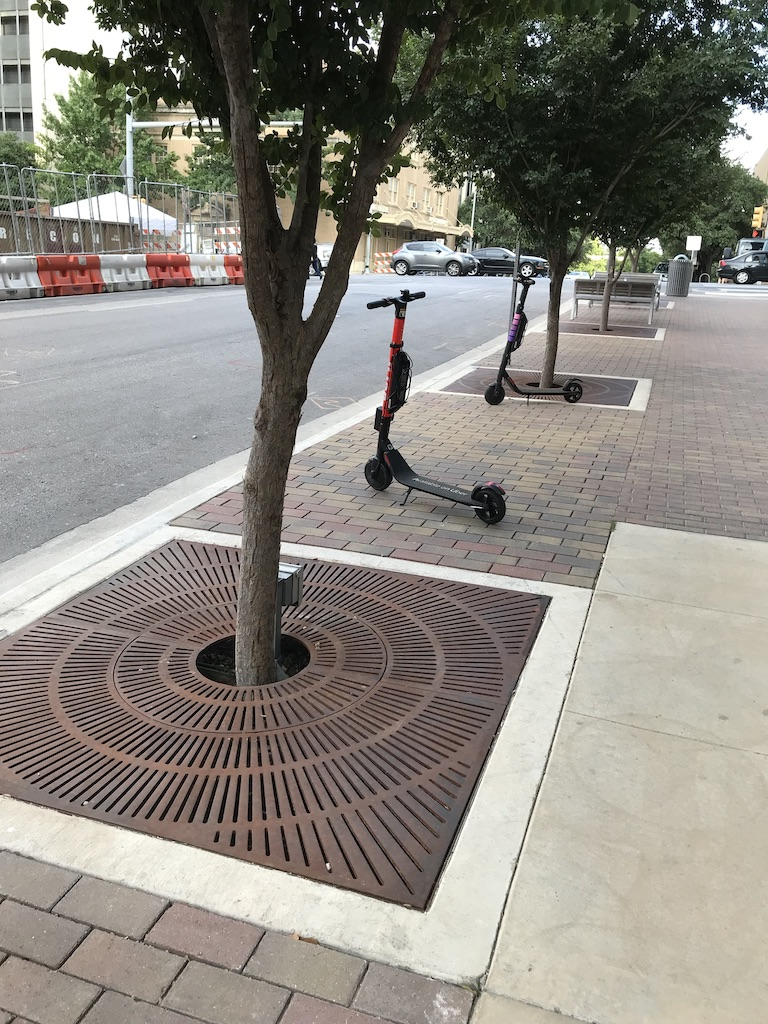scooter: (364, 290, 506, 526), (485, 275, 585, 406)
